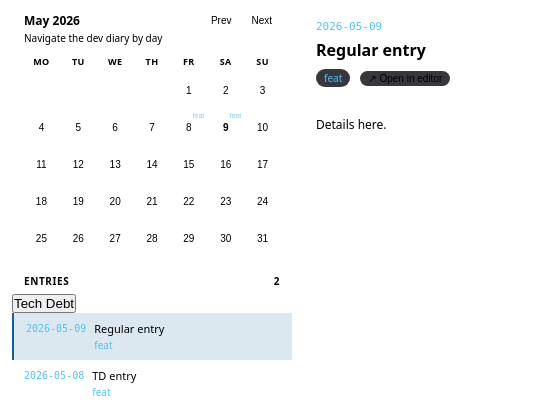
Scenario: DiaryView › shows all entries again when Tech Debt chip is clicked a second time
Click the button "Tech Debt". click: x=44, y=304
box: [12, 294, 76, 313]
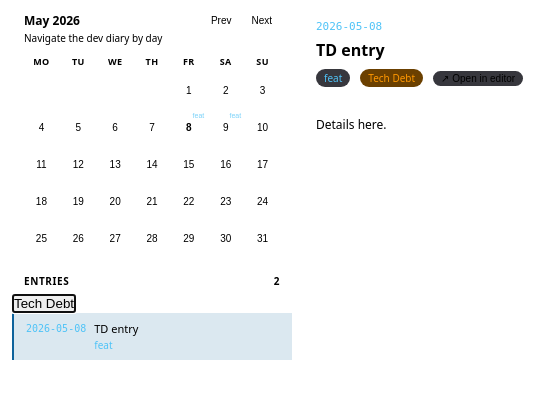
Click the button "Tech Debt". click: x=44, y=304
box: [12, 294, 76, 313]
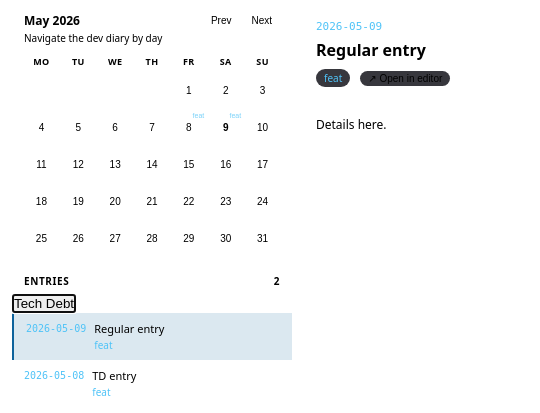
Expected: the text "TD entry" is shown, [92, 368, 136, 383]
Expected: the text "Regular entry" below "Entries" is shown, [94, 321, 164, 336]
